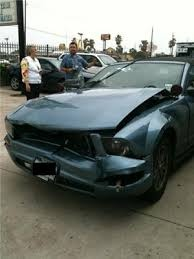Broken-glass: (99, 135, 137, 161)
Dent: (157, 108, 189, 124)
Smashed: (5, 88, 172, 197)
